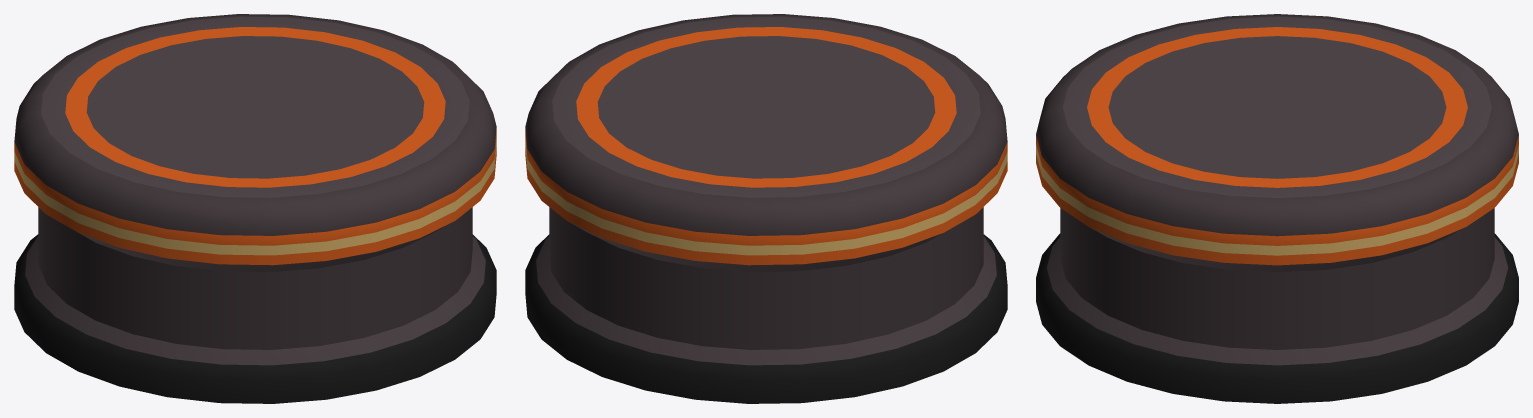
Rendered from candy-podium.glb.
The picture shows the model from 3 angles, left to right: view 1: azimuth 30°, elevation 25°; view 2: azimuth 150°, elevation 25°; view 3: azimuth 270°, elevation 25°; orthographic projection.
Visible parts, largest first — view 1: candy-podium; view 2: candy-podium; view 3: candy-podium.
Boxes of the visible parts, x1=… form: candy-podium: x1=14, y1=14, x2=496, y2=403; candy-podium: x1=525, y1=14, x2=1007, y2=403; candy-podium: x1=1036, y1=14, x2=1518, y2=403.
Size of the model in its own units: 0.9 by 0.4 by 0.9.
